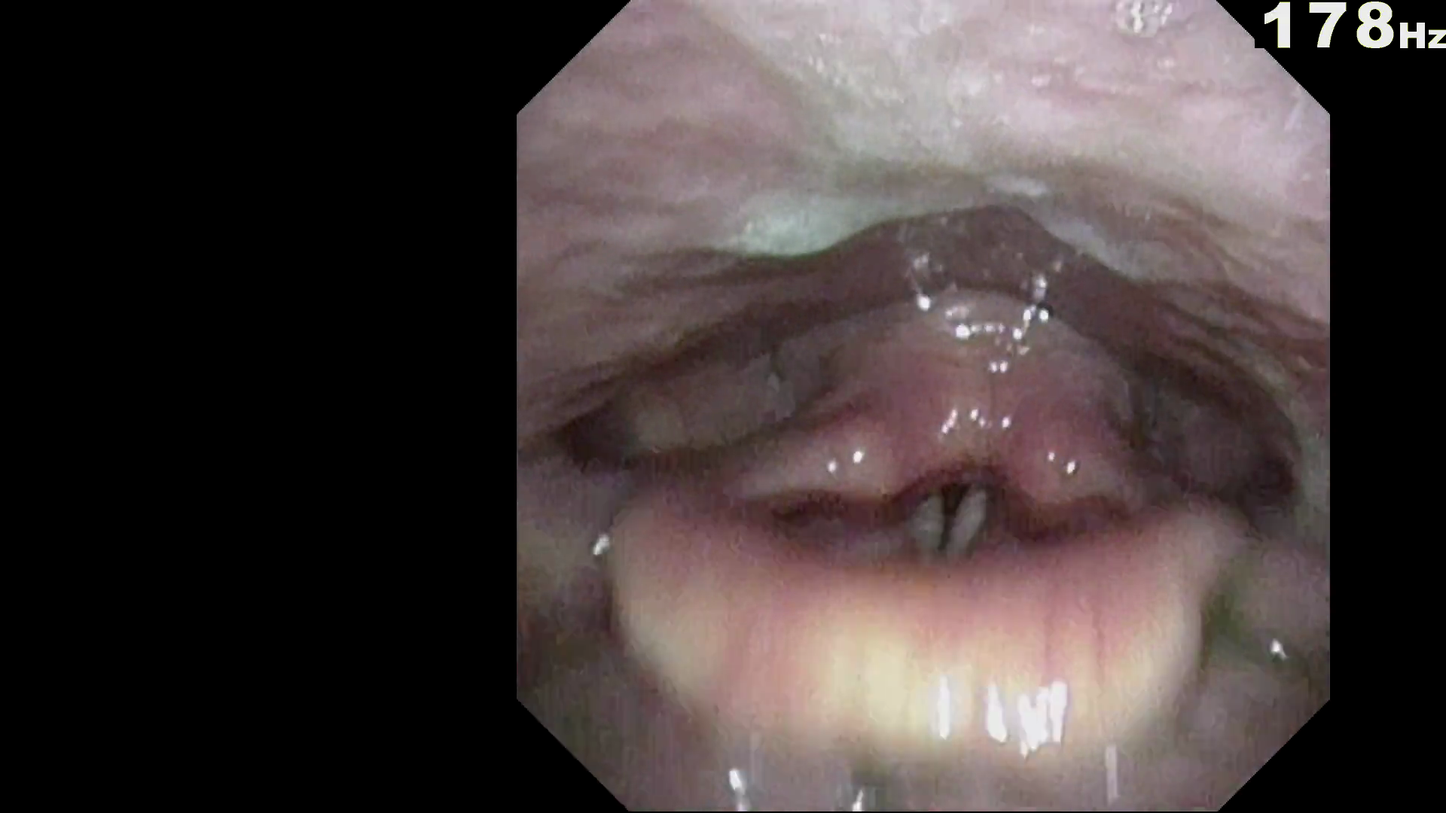epiglottis: (639, 483, 1189, 674)
trachea: (878, 434, 1032, 517)
